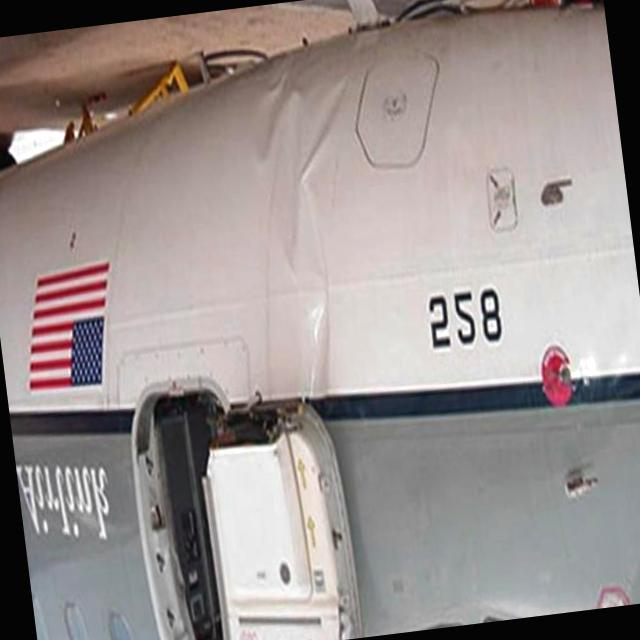dent: (240, 44, 359, 191)
